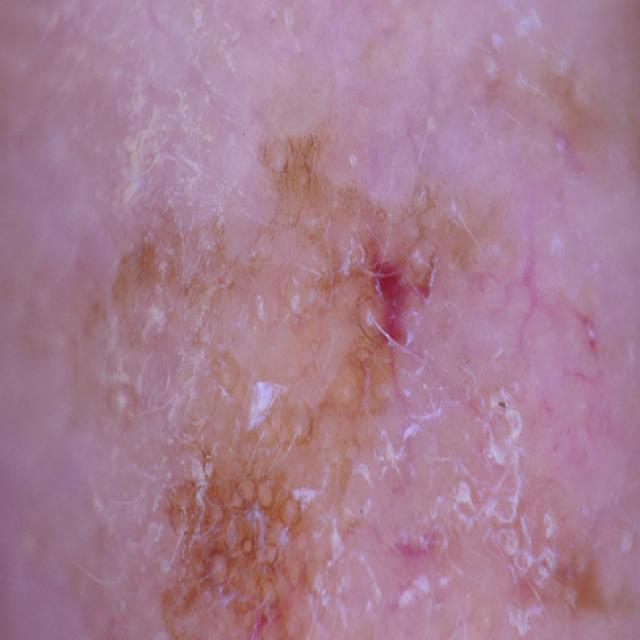Keratosis: (89, 220, 326, 640), (268, 120, 518, 507), (464, 459, 632, 640)
